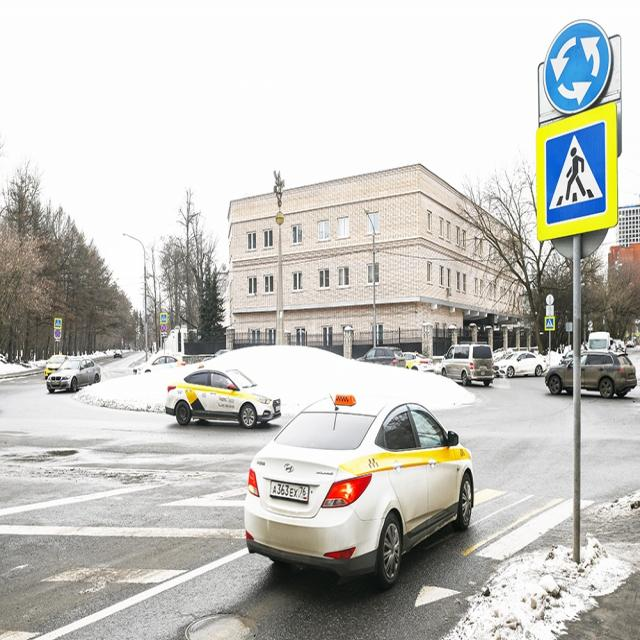roundabout: (536, 12, 617, 114)
